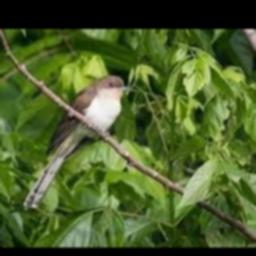Cuckoo: (21, 75, 134, 209)
